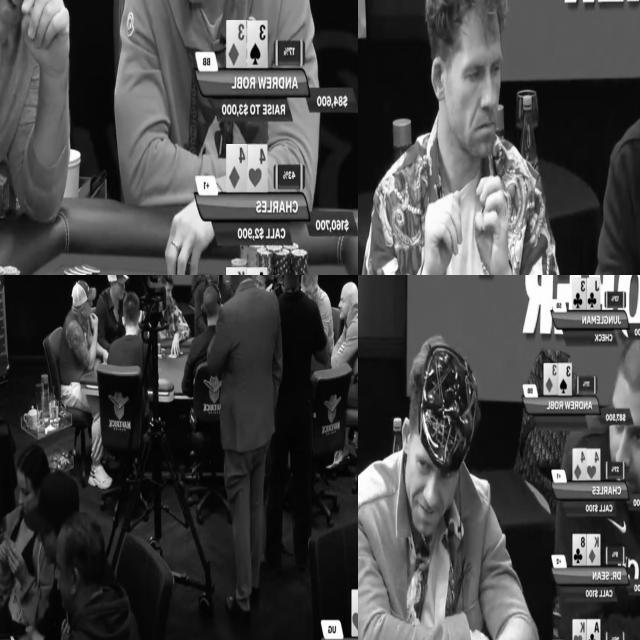2H: (351, 590, 358, 636)
3C: (571, 279, 586, 309)
3D: (227, 20, 248, 68), (543, 364, 558, 396)
3S: (248, 21, 268, 68), (558, 362, 572, 399)
4D: (226, 144, 247, 193), (574, 448, 586, 480)
4H: (247, 143, 267, 193), (586, 448, 601, 479)
8C: (572, 533, 588, 566)
AC: (587, 618, 601, 640)
JC: (587, 277, 600, 310)
KD: (588, 534, 600, 567)
KH: (571, 619, 586, 640)
